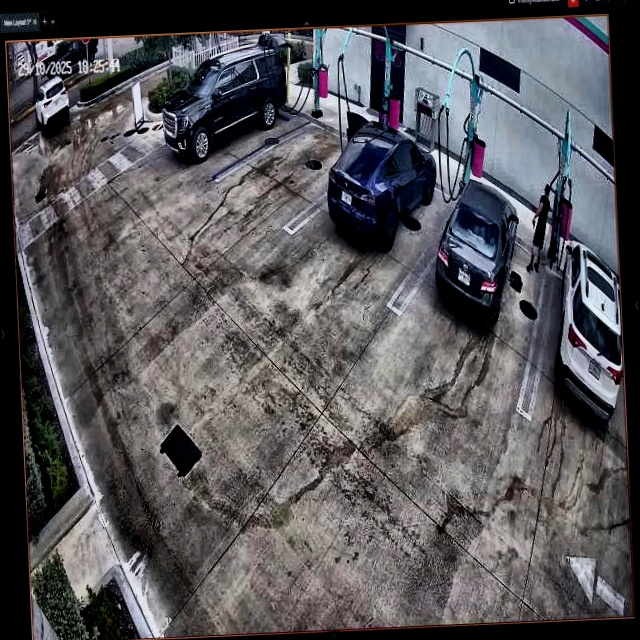Car: (325, 117, 439, 250), (160, 46, 288, 159), (434, 178, 521, 327)
